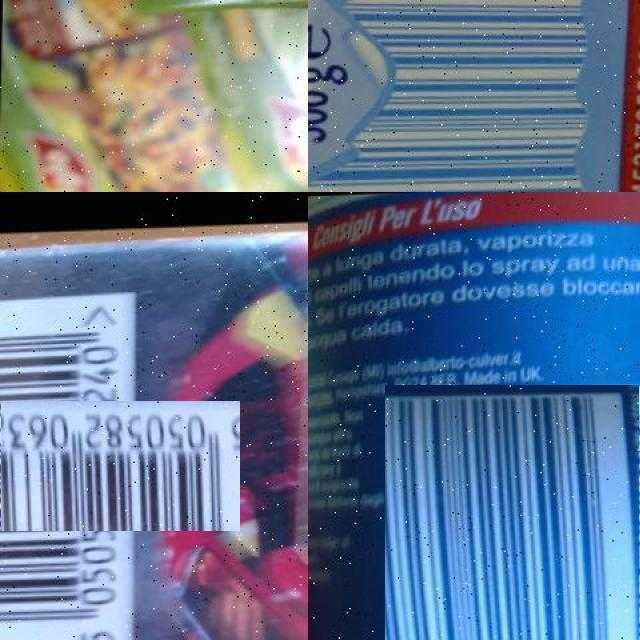Barcode: (385, 385, 640, 640), (308, 0, 609, 192), (0, 347, 186, 586)
